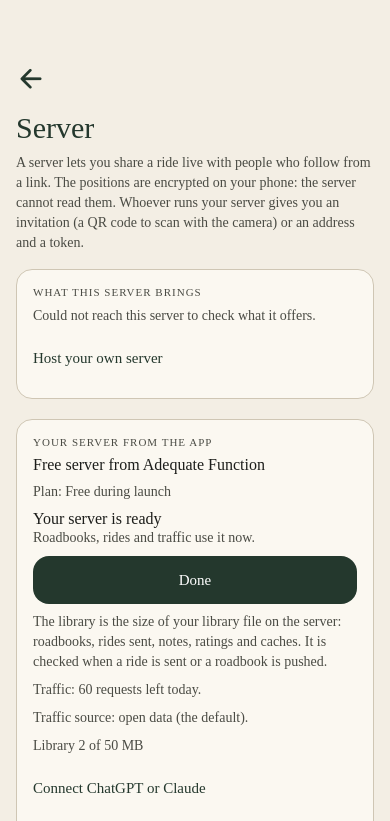
the first time, it says the server is ready, and Done puts the message away
expect the text "Your server is ready" is shown: met, box [33,510,162,527]
Step 1. Click the button with aria-label "Done, close this message" → (195, 580), box [33,556,357,604]
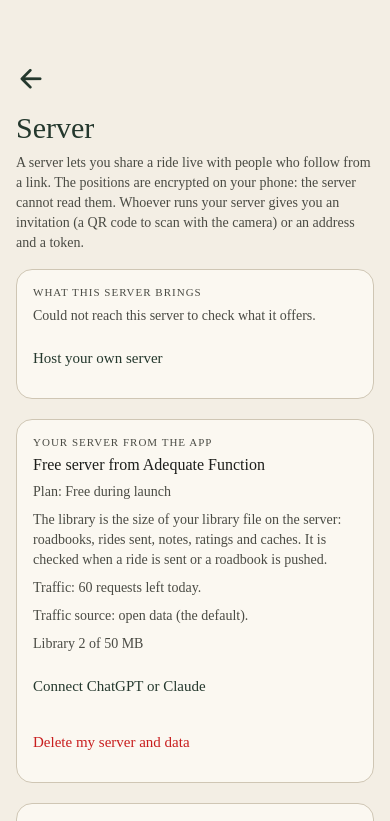
expect the text "Your server is ready" is gone: met
